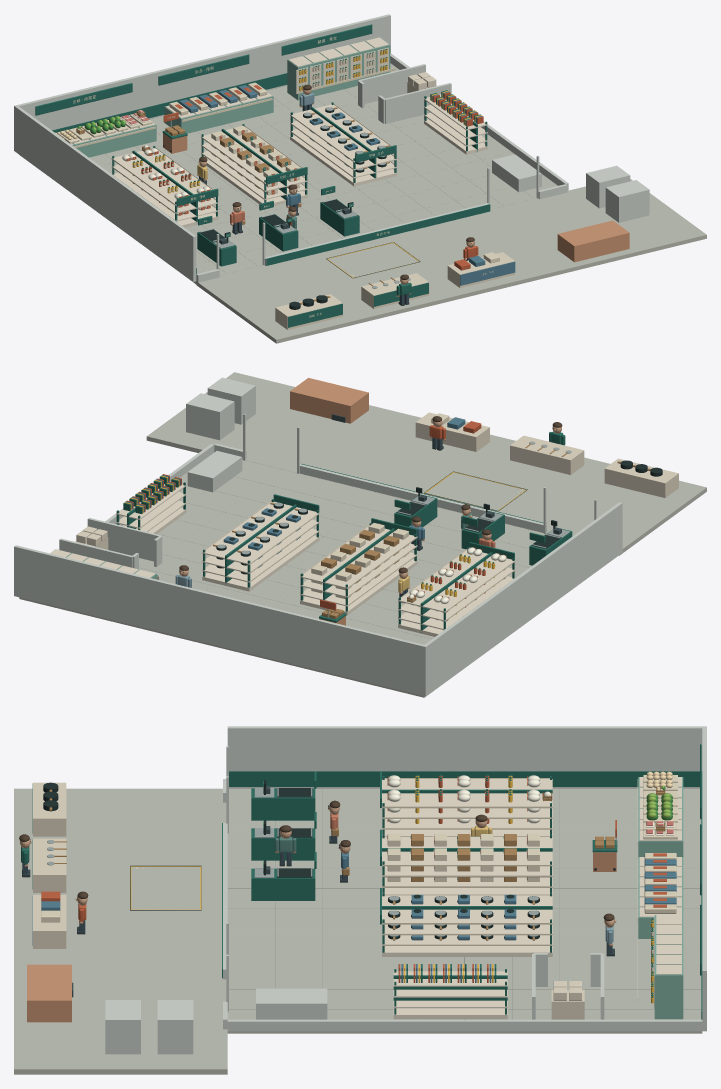
File: MarketWorld.fbx
3 views of the same model, one above another, from view 1: azimuth 30°, elevation 25°; view 2: azimuth 150°, elevation 25°; view 3: azimuth 270°, elevation 25° (orthographic). The views are drawn at different scales.
Parts seen in each view (by area): view 1: 室外同场地坪_范围建议, 室内地坪_净尺寸24x20, 西墙, 北墙, 18_回收台, 外立面低位绿饰, 06_层板.002, 02_cabinet, 20_服务柜, 04_层板.002, 03_cabinet, 后仓南隔墙 (+27 smaller); view 2: 室外同场地坪_范围建议, 室内地坪_净尺寸24x20, 北墙, 西墙, 18_回收台, 06_层板.002, 04_层板.002, 南墙_剖切B, 16_二手台, 19_服务柜, 15_二手台, 13_推车停放占位 (+17 smaller); view 3: 室内地坪_净尺寸24x20, 室外同场地坪_范围建议, 西墙, 东墙_剖切, West_wall_green_dado, 04_层板.002, 06_层板.002, 05_层板.002, 18_回收台, 13_推车停放占位, 19_服务柜, 20_服务柜 (+28 smaller).
Boxes of the visible parts, x1,y1,x2,y2 form: 室外同场地坪_范围建议: [196, 179, 706, 343]; 室内地坪_净尺寸24x20: [20, 63, 557, 283]; 西墙: [15, 106, 196, 281]; 北墙: [14, 14, 390, 151]; 18_回收台: [557, 220, 629, 262]; 外立面低位绿饰: [266, 204, 490, 265]; 06_层板.002: [290, 104, 396, 162]; 02_cabinet: [164, 92, 273, 133]; 20_服务柜: [605, 180, 649, 222]; 04_层板.002: [113, 148, 218, 205]; 03_cabinet: [287, 41, 390, 100]; 后仓南隔墙: [384, 83, 451, 123]; 室外同场地坪_范围建议: [146, 372, 706, 555]; 室内地坪_净尺寸24x20: [19, 459, 618, 697]; 北墙: [14, 545, 427, 696]; 西墙: [424, 502, 622, 694]; 18_回收台: [290, 378, 368, 423]; 06_层板.002: [202, 501, 317, 564]; 04_层板.002: [398, 550, 514, 612]; 南墙_剖切B: [299, 464, 546, 532]; 16_二手台: [510, 435, 584, 474]; 19_服务柜: [186, 393, 234, 440]; 15_二手台: [604, 458, 678, 497]; 13_推车停放占位: [187, 451, 242, 492]; 室内地坪_净尺寸24x20: [227, 788, 702, 1033]; 室外同场地坪_范围建议: [14, 788, 227, 1074]; 西墙: [227, 726, 702, 788]; 东墙_剖切: [227, 1019, 702, 1031]; West_wall_green_dado: [229, 771, 699, 786]; 04_层板.002: [382, 779, 552, 808]; 06_层板.002: [382, 895, 552, 924]; 05_层板.002: [382, 837, 552, 866]; 18_回收台: [27, 964, 71, 1022]; 13_推车停放占位: [256, 988, 327, 1019]; 19_服务柜: [157, 1000, 193, 1054]; 20_服务柜: [105, 1000, 140, 1054].
Size of what is drawn, in the model's own units: 28.2 by 3.04 by 29.2.
